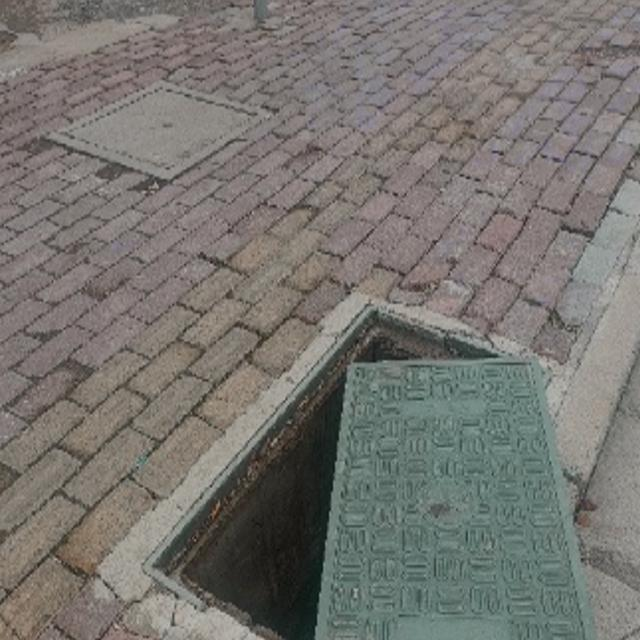good: (39, 80, 273, 183)
uncovered: (101, 282, 616, 640)
